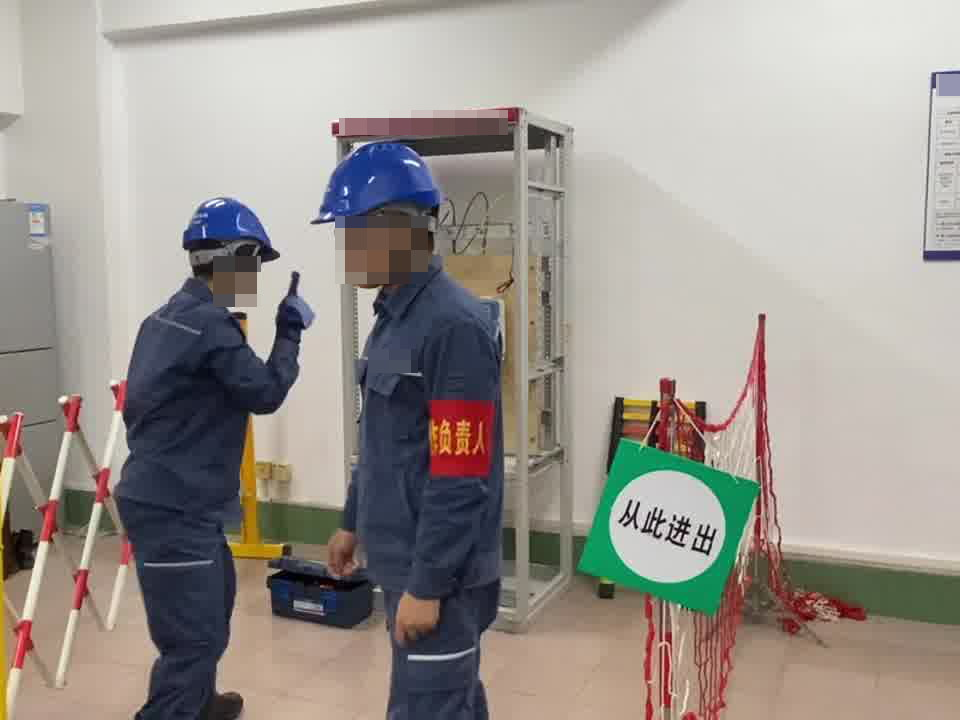badge: (427, 398, 498, 481)
downsuit: (118, 499, 240, 720), (376, 591, 505, 720)
glove: (273, 274, 322, 336)
halt: (316, 140, 450, 285), (182, 196, 278, 304)
hand: (392, 591, 443, 651), (326, 535, 362, 579)
inear: (383, 213, 423, 268), (231, 253, 261, 291)
intosign: (592, 441, 731, 600)
person: (101, 195, 316, 720), (323, 137, 515, 720)
upsuit: (342, 267, 505, 592), (113, 278, 307, 513)
